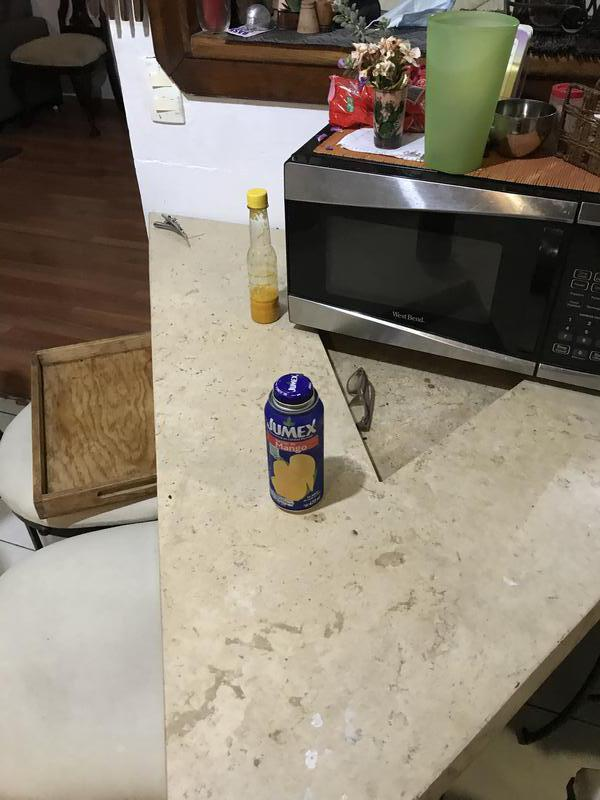jugo_jumex: (264, 375, 325, 514)
